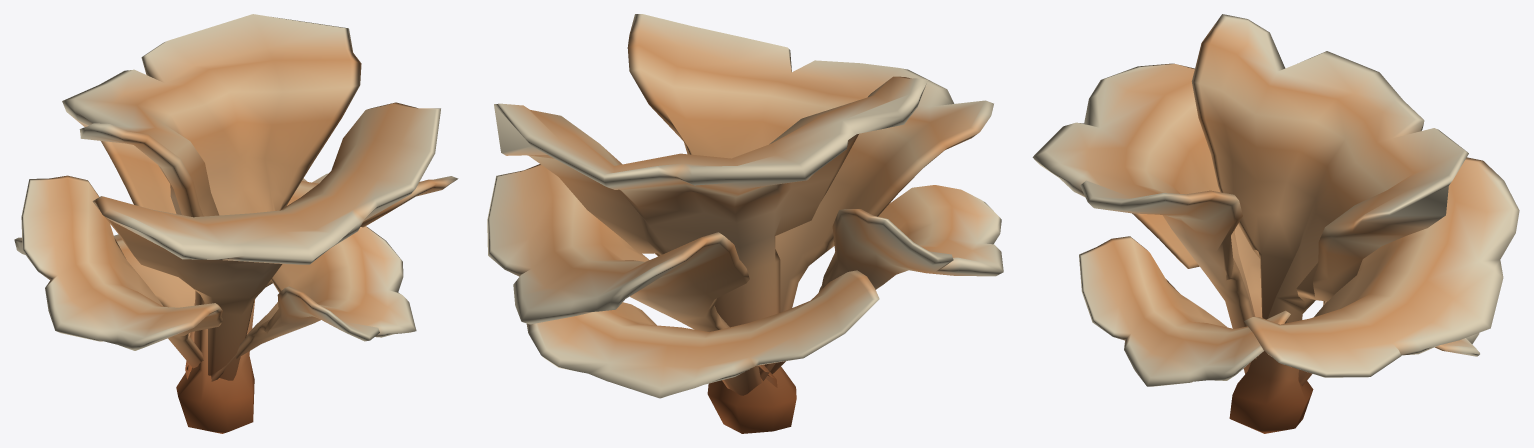
Rendered from plants-mushrooms-oyster-mushroom_v1.fbx.
3 views of the same model, side by side, from view 1: azimuth 30°, elevation 25°; view 2: azimuth 150°, elevation 25°; view 3: azimuth 270°, elevation 25° (orthographic). The views are drawn at different scales.
Visible parts, largest first — view 1: Oyster Mushroom_v1; view 2: Oyster Mushroom_v1; view 3: Oyster Mushroom_v1.
Part boxes in pixels (x1,y1,x2,y2): Oyster Mushroom_v1: (14, 14, 458, 433); Oyster Mushroom_v1: (487, 14, 1003, 433); Oyster Mushroom_v1: (1032, 14, 1519, 433).
Bounding box in the file's own units: 0.15 × 0.1149 × 0.1439.
